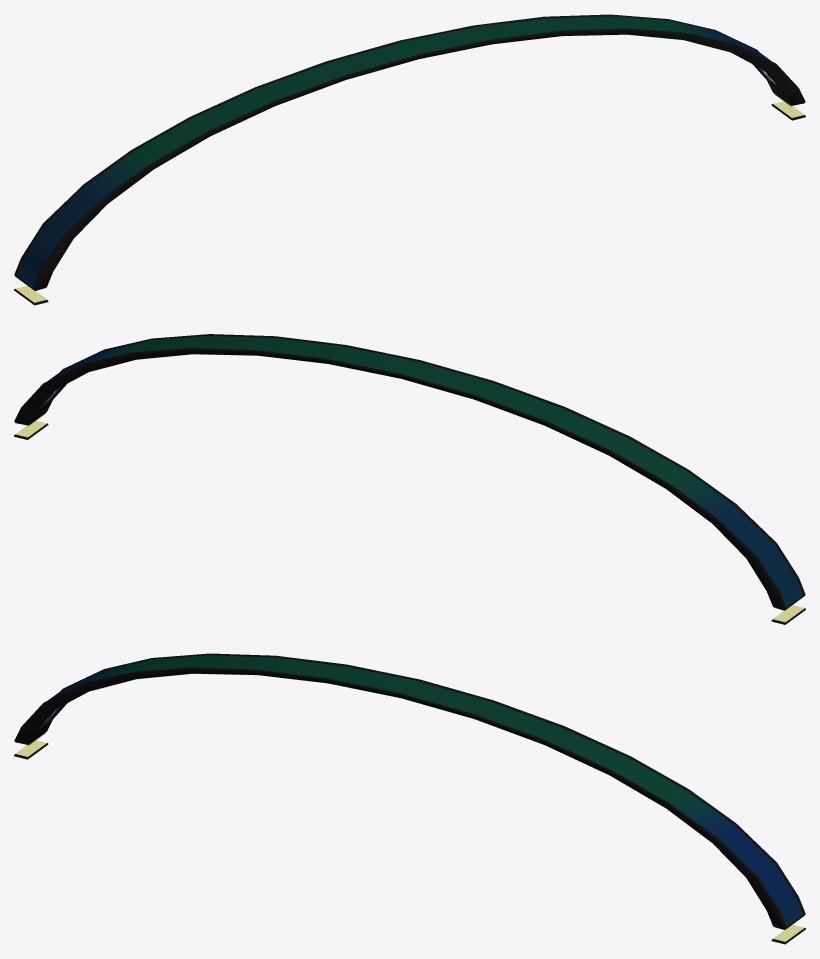
Rendered from W_O_Forum_Decor_001_L3.fbx.
3 views of the same model, one above another, from view 1: azimuth 30°, elevation 25°; view 2: azimuth 150°, elevation 25°; view 3: azimuth 330°, elevation 25° (orthographic).
Parts seen in each view (by area): view 1: W_O_Forum_Decor_001_L3; view 2: W_O_Forum_Decor_001_L3; view 3: W_O_Forum_Decor_001_L3.
Part boxes in pixels (x1,y1,x2,y2): W_O_Forum_Decor_001_L3: (14, 14, 805, 305); W_O_Forum_Decor_001_L3: (14, 334, 805, 624); W_O_Forum_Decor_001_L3: (14, 653, 805, 944).
Size of the model in its own units: 48.01 by 9.27 by 2.24.
